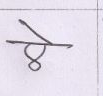e_matra: (19, 19, 56, 43)
